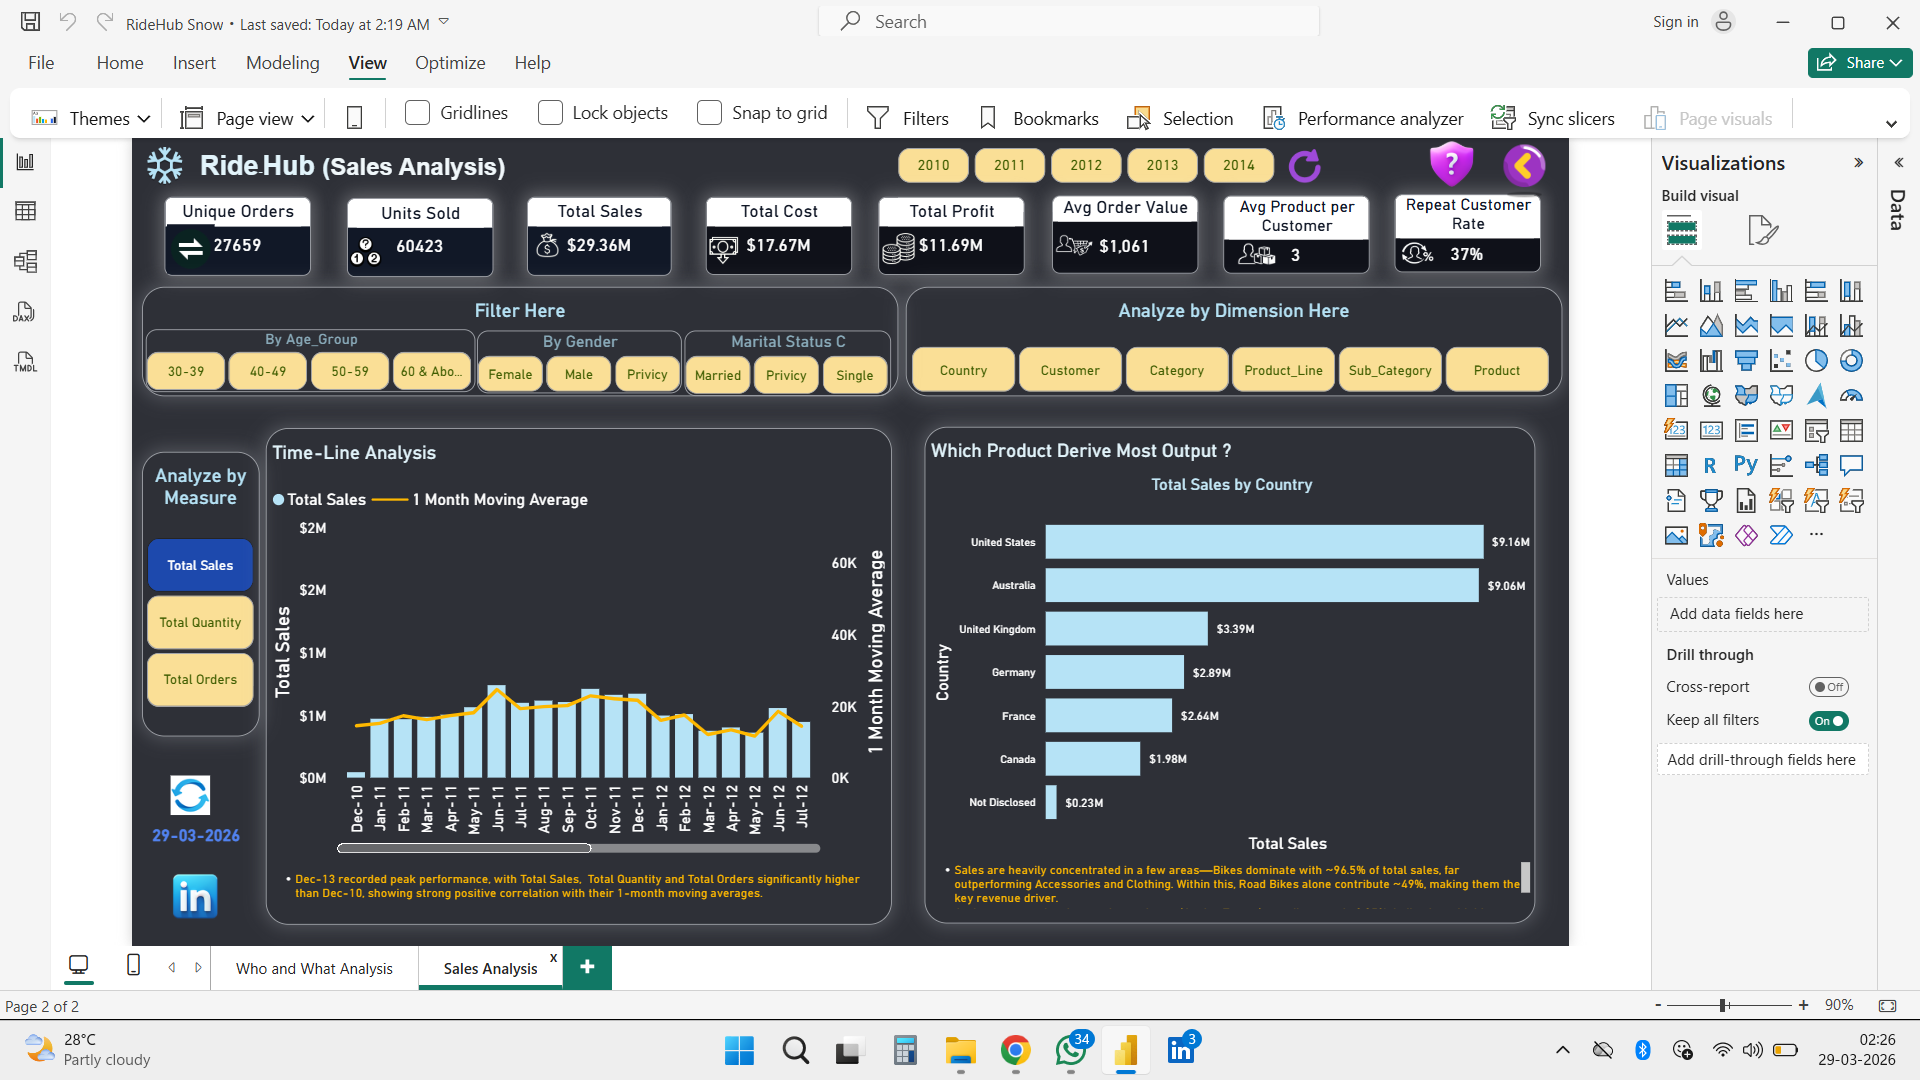

This screenshot's page, from the dashboard's own definition file:
{"tool":"powerbi","page":{"name":"Sales Analysis","canvas":[1280,720],"ordinal":1},"visuals":[{"type":"textbox","box":[8.8,279,105,253.8],"z":0},{"type":"advancedSlicerVisual","fields":{"Values":["Parameter.Parameter"]},"box":[13.8,356.5,95,152.5],"z":1000},{"type":"textbox","box":[49.1,6.1,288.3,39.3],"z":2000},{"type":"image","box":[10,0,38.8,48.8],"z":3000},{"type":"advancedSlicerVisual","fields":{"Values":["Calendar.year"]},"box":[682.5,8.8,335,31.2],"z":4000},{"type":"image","box":[1015,5,58.8,42.5],"z":5000},{"type":"card","title":"Total Sales","fields":{"Values":["fact_sales.Total Sales"]},"box":[351.8,52.8,128.8,70],"z":6000,"group":"g3"},{"type":"textbox","box":[118.8,258.5,557.5,442.5],"z":6000},{"type":"card","title":"Total Profit","fields":{"Values":["fact_sales.Total Profit"]},"box":[665,52.8,130.1,69.9],"z":7000},{"type":"group","id":"g1","title":"Group 1","box":[29.4,52.8,130.1,69.9],"z":8000},{"type":"card","title":"Unique Orders","fields":{"Values":["fact_sales.Total Orders"]},"box":[29.4,52.8,130,70],"z":9000,"group":"g1"},{"type":"group","id":"g2","title":"Group 2","box":[189,53,132.4,70],"z":9000},{"type":"group","id":"g3","title":"Group 5","box":[351.8,52.8,128.8,70],"z":10000},{"type":"card","title":"Units Sold","fields":{"Values":["fact_sales.Total Quantity"]},"box":[191.4,53,130,70],"z":10000,"group":"g2"},{"type":"card","title":"Total Cost","fields":{"Values":["fact_sales.Total Cost"]},"box":[510.4,52.8,130.1,69.9],"z":11000},{"type":"image","box":[663.8,79.8,38,36.8],"z":12000},{"type":"image","box":[357.9,81,23.3,30.7],"z":12001,"group":"g3"},{"type":"image","box":[31.7,76.8,42.6,43.8],"z":12002,"group":"g1"},{"type":"image","box":[189,86.2,38,28.2],"z":12003,"group":"g2"},{"type":"card","title":"Avg Order Value","fields":{"Values":["fact_sales.Avg Order Value"]},"box":[819.6,51.5,130.1,69.9],"z":13000},{"type":"card","title":"Avg Product per Customer","fields":{"Values":["fact_sales.Avg Product per customer"]},"box":[971.8,51.5,130.1,69.9],"z":14000},{"type":"card","title":"Repeat Customer Rate","fields":{"Values":["Customer_report.Repeate Customer %"]},"box":[1123.9,50.3,130.1,69.9],"z":15000},{"type":"image","box":[512.9,85.9,27,28.2],"z":16000},{"type":"image","box":[984.1,84.7,34.4,36.8],"z":17000},{"type":"image","box":[1130.1,83.4,29.4,35.6],"z":18000},{"type":"image","box":[822.1,73.6,33.1,42.9],"z":19000},{"type":"textbox","box":[706.2,257.5,543.8,442.5],"z":20000},{"type":"lineClusteredColumnComboChart","fields":{"Y":["fact_sales.Total Sales"],"Category":["Calendar.Month Year"],"Y2":["fact_sales.1 Month Moving Average"]},"box":[118.8,301,556.2,341.2],"z":21000},{"type":"clusteredBarChart","fields":{"Category":["g_dim_customers.country","g_dim_customers.name","dim_products.category","dim_products.product_line","dim_products.sub_category","dim_products.product_name"],"Y":["fact_sales.Total Sales"]},"box":[709.2,299.4,541.1,342.3],"z":22000},{"type":"textbox","box":[688.8,132.5,585,97.5],"z":23000},{"type":"advancedSlicerVisual","fields":{"Values":["All.All"]},"box":[695,186.2,570,40],"z":24000},{"type":"image","box":[30,648.8,52.5,52.5],"z":25000},{"type":"textbox","box":[8.8,132.5,673.8,97.5],"z":26000},{"type":"advancedSlicerVisual","title":"By Age_Group","fields":{"Values":["g_dim_customers.age_group"]},"box":[12.5,170,293.8,56.2],"z":27000},{"type":"advancedSlicerVisual","title":"By Gender","fields":{"Values":["g_dim_customers.Gender Cleaned"]},"box":[307.5,171.2,182.5,56.2],"z":28000},{"type":"advancedSlicerVisual","fields":{"Values":["g_dim_customers.Marital Status C"]},"box":[492.5,171.2,183.8,58.8],"z":29000},{"type":"textbox","box":[122.5,647.5,541.2,52.5],"z":30000},{"type":"image","box":[1210,0,60,52.5],"z":31000},{"type":"image","box":[1145,0,60,46.2],"z":32000},{"type":"image","box":[31.2,567.5,41.2,35],"z":33000},{"type":"card","fields":{"Values":["Calendar.Refreshed on"]},"box":[1.2,602.5,112.5,40],"z":34000},{"type":"textbox","box":[709.2,640.5,541.1,51.5],"z":35000}]}

Visuals, with their boxes on the page's 1280x720 design canvas (x1, y1, x2, y2). These are canvas units, not pixel positions in the 1920x1080 screenshot, which may show the page scaled, cropped or inside an application window:
textbox: left=9, top=279, right=114, bottom=533
advancedSlicerVisual - Parameter.Parameter: left=14, top=356, right=109, bottom=509
textbox: left=49, top=6, right=337, bottom=45
image: left=10, top=0, right=49, bottom=49
advancedSlicerVisual - Calendar.year: left=682, top=9, right=1018, bottom=40
image: left=1015, top=5, right=1074, bottom=48
"Total Sales" card: left=352, top=53, right=481, bottom=123
textbox: left=119, top=258, right=676, bottom=701
"Total Profit" card: left=665, top=53, right=795, bottom=123
"Group 1" group: left=29, top=53, right=160, bottom=123
"Unique Orders" card: left=29, top=53, right=159, bottom=123
"Group 2" group: left=189, top=53, right=321, bottom=123
"Group 5" group: left=352, top=53, right=481, bottom=123
"Units Sold" card: left=191, top=53, right=321, bottom=123
"Total Cost" card: left=510, top=53, right=640, bottom=123
image: left=664, top=80, right=702, bottom=117
image: left=358, top=81, right=381, bottom=112
image: left=32, top=77, right=74, bottom=121
image: left=189, top=86, right=227, bottom=114
"Avg Order Value" card: left=820, top=52, right=950, bottom=121
"Avg Product per Customer" card: left=972, top=52, right=1102, bottom=121
"Repeat Customer Rate" card: left=1124, top=50, right=1254, bottom=120
image: left=513, top=86, right=540, bottom=114
image: left=984, top=85, right=1018, bottom=122
image: left=1130, top=83, right=1160, bottom=119
image: left=822, top=74, right=855, bottom=116
textbox: left=706, top=258, right=1250, bottom=700
lineClusteredColumnComboChart - fact_sales.Total Sales x Calendar.Month Year: left=119, top=301, right=675, bottom=642
clusteredBarChart - g_dim_customers.country x g_dim_customers.name: left=709, top=299, right=1250, bottom=642
textbox: left=689, top=132, right=1274, bottom=230
advancedSlicerVisual - All.All: left=695, top=186, right=1265, bottom=226
image: left=30, top=649, right=82, bottom=701
textbox: left=9, top=132, right=683, bottom=230
"By Age_Group" advancedSlicerVisual: left=12, top=170, right=306, bottom=226
"By Gender" advancedSlicerVisual: left=308, top=171, right=490, bottom=227
advancedSlicerVisual - g_dim_customers.Marital Status C: left=492, top=171, right=676, bottom=230
textbox: left=122, top=648, right=664, bottom=700
image: left=1210, top=0, right=1270, bottom=52
image: left=1145, top=0, right=1205, bottom=46
image: left=31, top=568, right=72, bottom=602
card - Calendar.Refreshed on: left=1, top=602, right=114, bottom=642
textbox: left=709, top=640, right=1250, bottom=692
